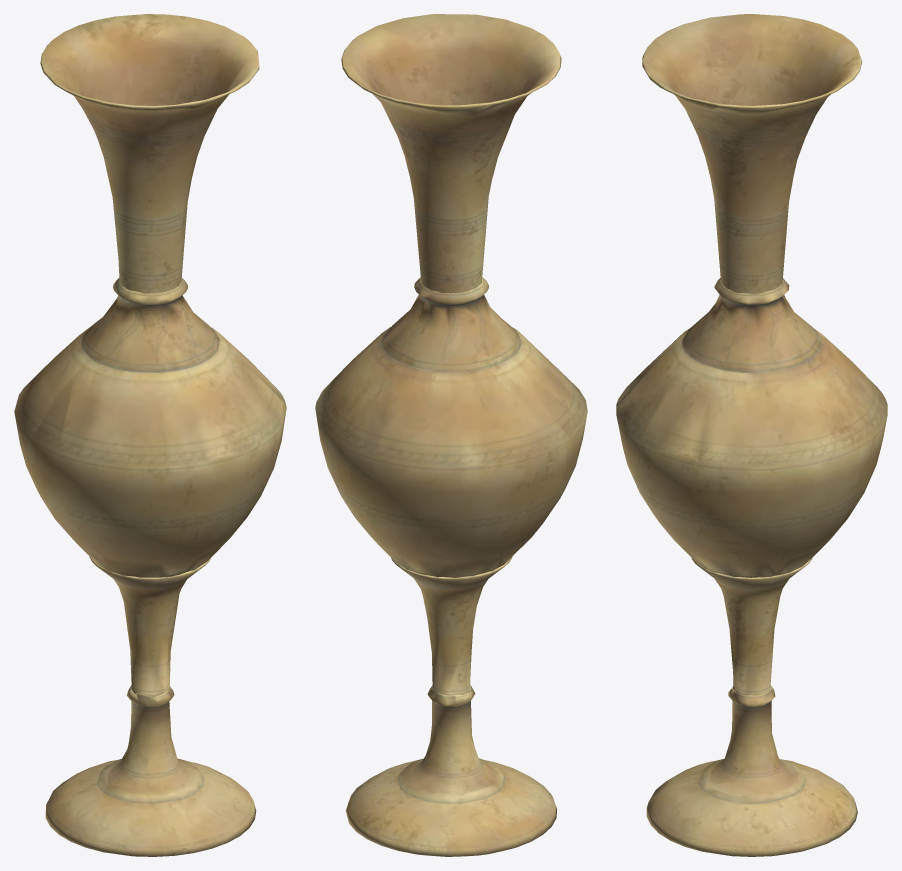
The model's file is brass_vase_01.glb.
The picture shows the model from 3 angles, left to right: view 1: azimuth 30°, elevation 25°; view 2: azimuth 150°, elevation 25°; view 3: azimuth 270°, elevation 25°; orthographic projection.
Parts seen in each view (by area): view 1: brass_vase_01; view 2: brass_vase_01; view 3: brass_vase_01.
Boxes of the visible parts, left/top/right/bottom form: brass_vase_01: left=14, top=14, right=286, bottom=856; brass_vase_01: left=315, top=14, right=587, bottom=856; brass_vase_01: left=616, top=14, right=887, bottom=856.
Bounding box in the file's own units: 0.2272 × 0.6925 × 0.2261.
1 material, 1 textured.
